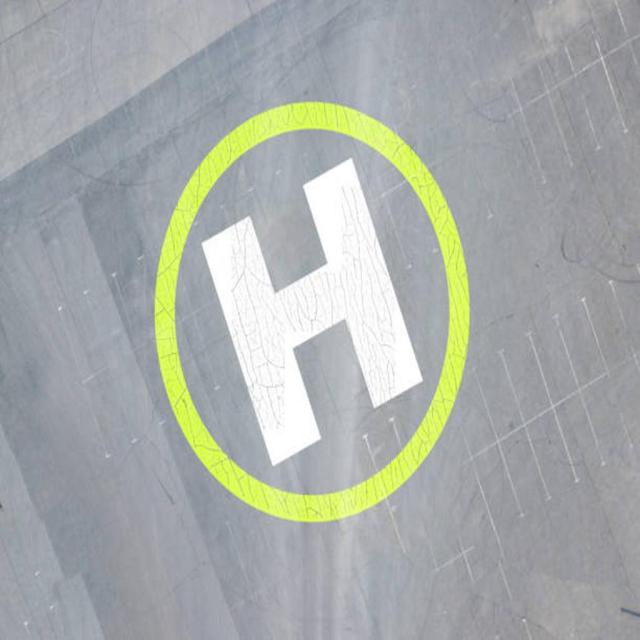helipad: (152, 98, 472, 525)
